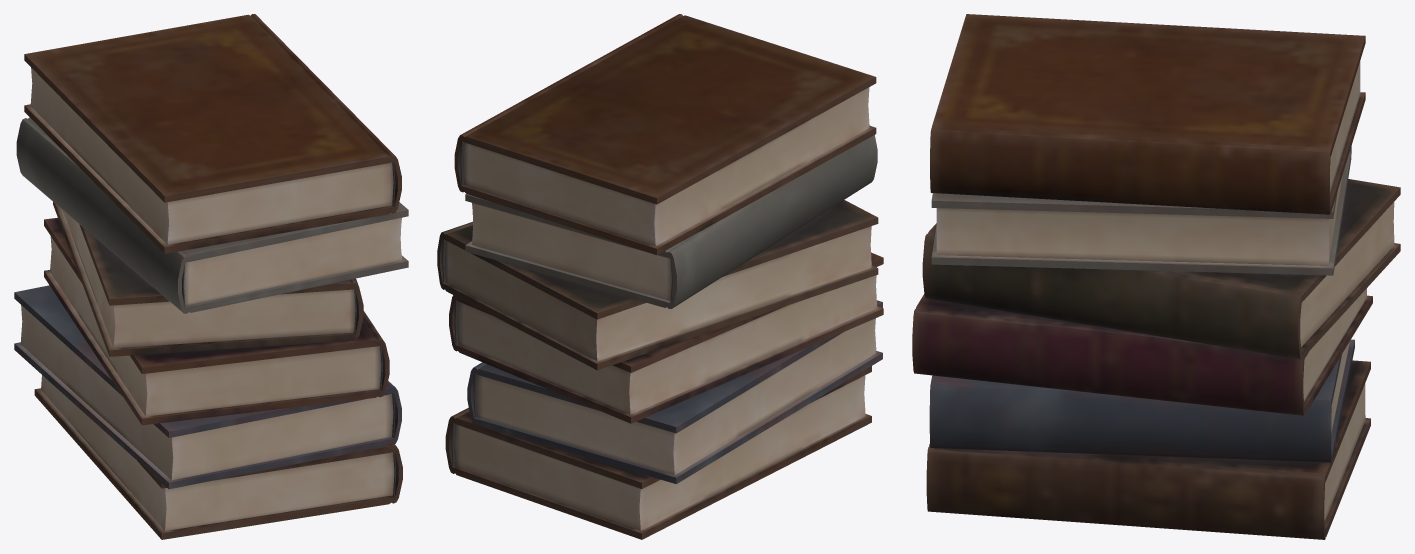
The model's file is book-pile-a.glb.
3 renders of one model, left to right at view 1: azimuth 30°, elevation 25°; view 2: azimuth 150°, elevation 25°; view 3: azimuth 270°, elevation 25°, orthographic. The views are drawn at different scales.
Visible parts, largest first — view 1: book-pile-a; view 2: book-pile-a; view 3: book-pile-a.
Part boxes in pixels (box(x1,y1,x2,y2)): book-pile-a: box(14, 14, 408, 539); book-pile-a: box(437, 14, 883, 539); book-pile-a: box(912, 14, 1400, 539).
Bounding box in the file's own units: 0.2392 × 0.2463 × 0.2849.
Materials: 1 (1 with a texture image).
